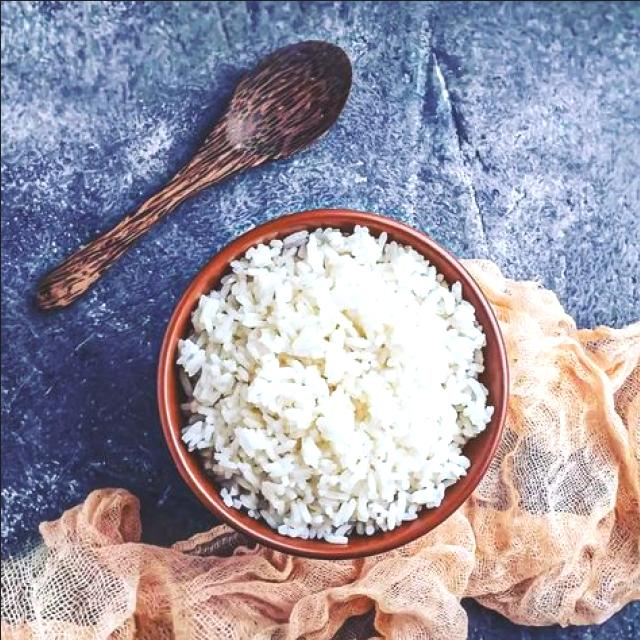nasi: (174, 217, 490, 544)
